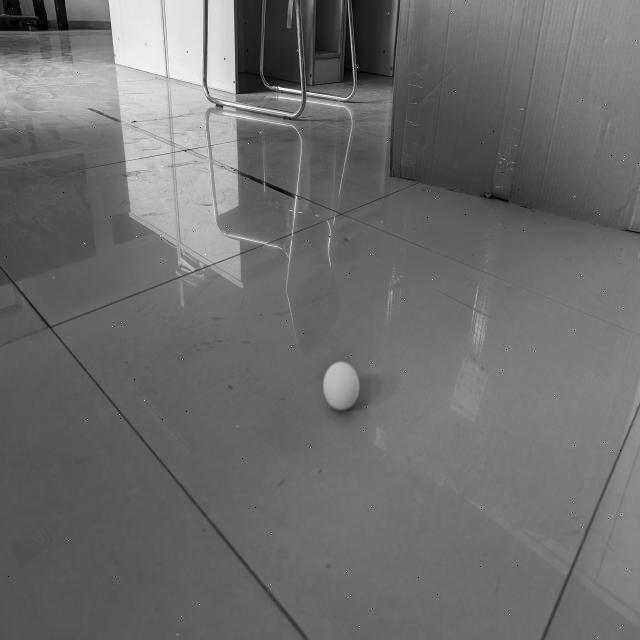ping-pong-ball: (320, 357, 361, 415)
